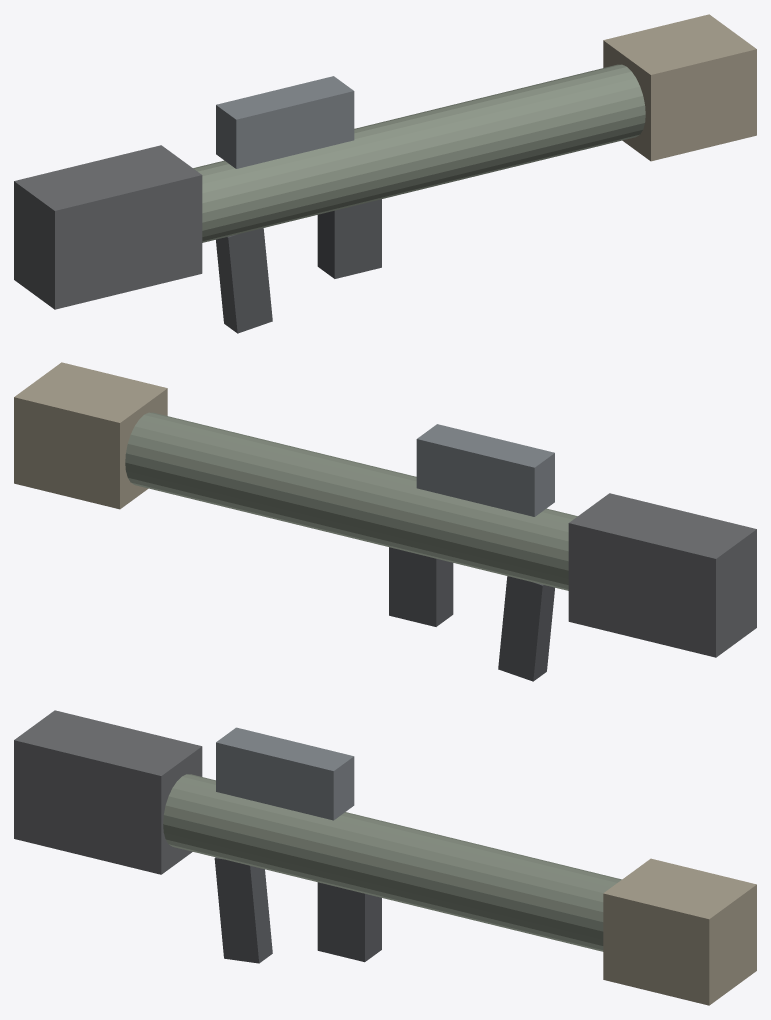
File: metaverse-rocket-launcher.gltf
3 views of the same model, one above another, from view 1: azimuth 30°, elevation 25°; view 2: azimuth 150°, elevation 25°; view 3: azimuth 330°, elevation 25° (orthographic).
Parts seen in each view (by area): view 1: metaverse_rocket_launcher_tube, metaverse_rocket_launcher_rear_housing, metaverse_rocket_launcher_front_shroud, metaverse_rocket_launcher_optic_body, metaverse_rocket_launcher_primary_grip, metaverse_rocket_launcher_support_handle; view 2: metaverse_rocket_launcher_tube, metaverse_rocket_launcher_rear_housing, metaverse_rocket_launcher_front_shroud, metaverse_rocket_launcher_optic_body, metaverse_rocket_launcher_primary_grip, metaverse_rocket_launcher_support_handle; view 3: metaverse_rocket_launcher_tube, metaverse_rocket_launcher_rear_housing, metaverse_rocket_launcher_front_shroud, metaverse_rocket_launcher_optic_body, metaverse_rocket_launcher_primary_grip, metaverse_rocket_launcher_support_handle.
Part boxes in pixels (x1,y1,x2,y2): metaverse_rocket_launcher_tube: (193,64,645,242); metaverse_rocket_launcher_rear_housing: (14,145,202,309); metaverse_rocket_launcher_front_shroud: (603,14,756,161); metaverse_rocket_launcher_optic_body: (216,76,354,168); metaverse_rocket_launcher_primary_grip: (216,228,272,333); metaverse_rocket_launcher_support_handle: (317,199,381,278); metaverse_rocket_launcher_tube: (125,412,577,590); metaverse_rocket_launcher_rear_housing: (568,493,756,657); metaverse_rocket_launcher_front_shroud: (14,362,167,509); metaverse_rocket_launcher_optic_body: (416,424,554,516); metaverse_rocket_launcher_primary_grip: (498,576,554,681); metaverse_rocket_launcher_support_handle: (389,547,453,626); metaverse_rocket_launcher_tube: (163,774,621,951); metaverse_rocket_launcher_rear_housing: (14,710,202,874); metaverse_rocket_launcher_front_shroud: (603,858,756,1005); metaverse_rocket_launcher_optic_body: (216,727,354,820); metaverse_rocket_launcher_primary_grip: (214,857,272,963); metaverse_rocket_launcher_support_handle: (317,882,381,962).
Bounding box in the file's own units: 1.19 × 0.3526 × 0.14.
